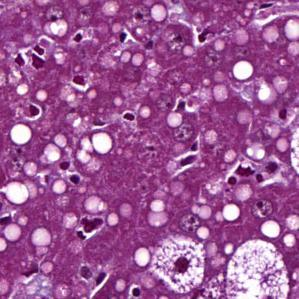ballooning: (222, 233, 290, 294), (148, 232, 208, 295)
